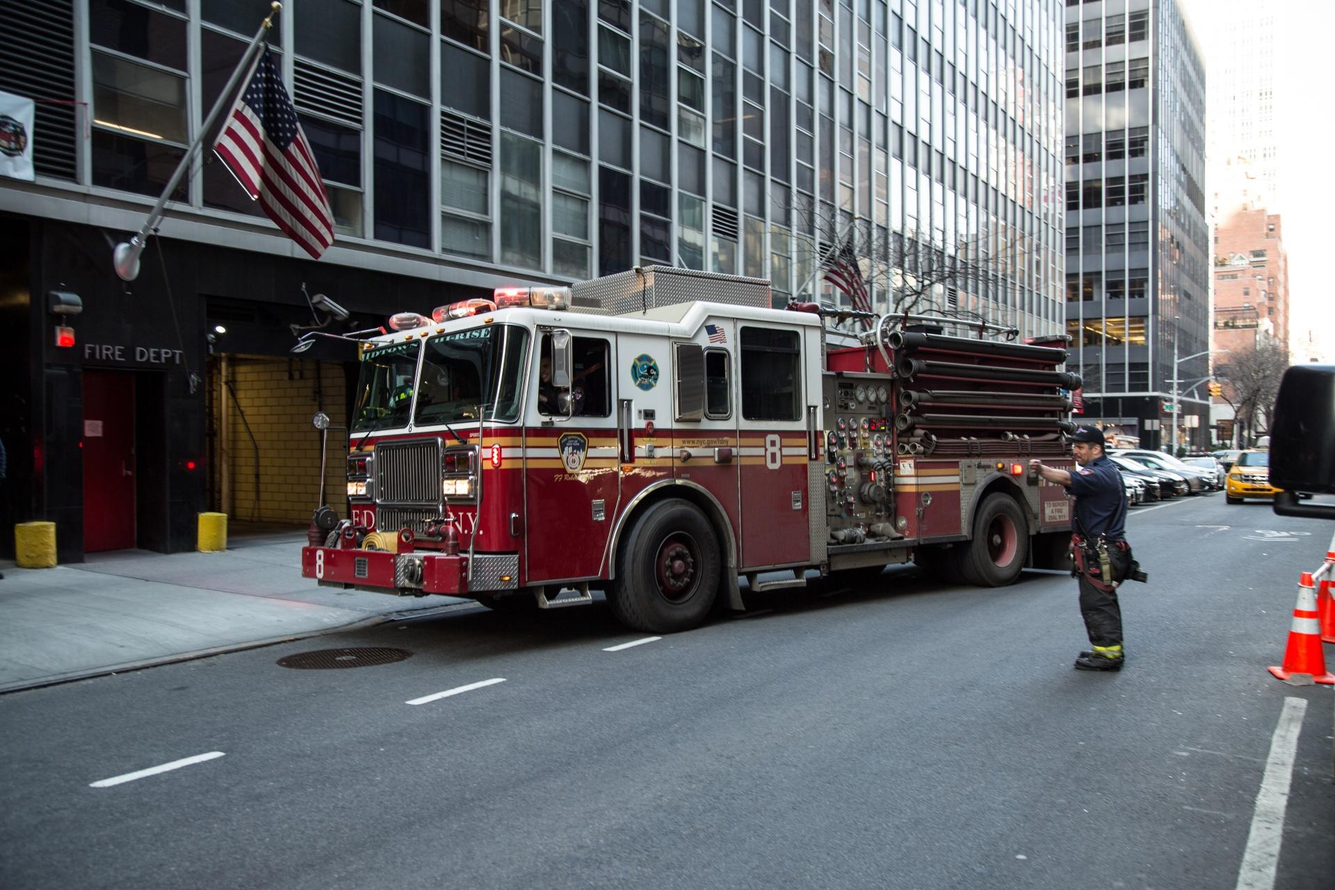Fire-engine: (293, 271, 1085, 633)
